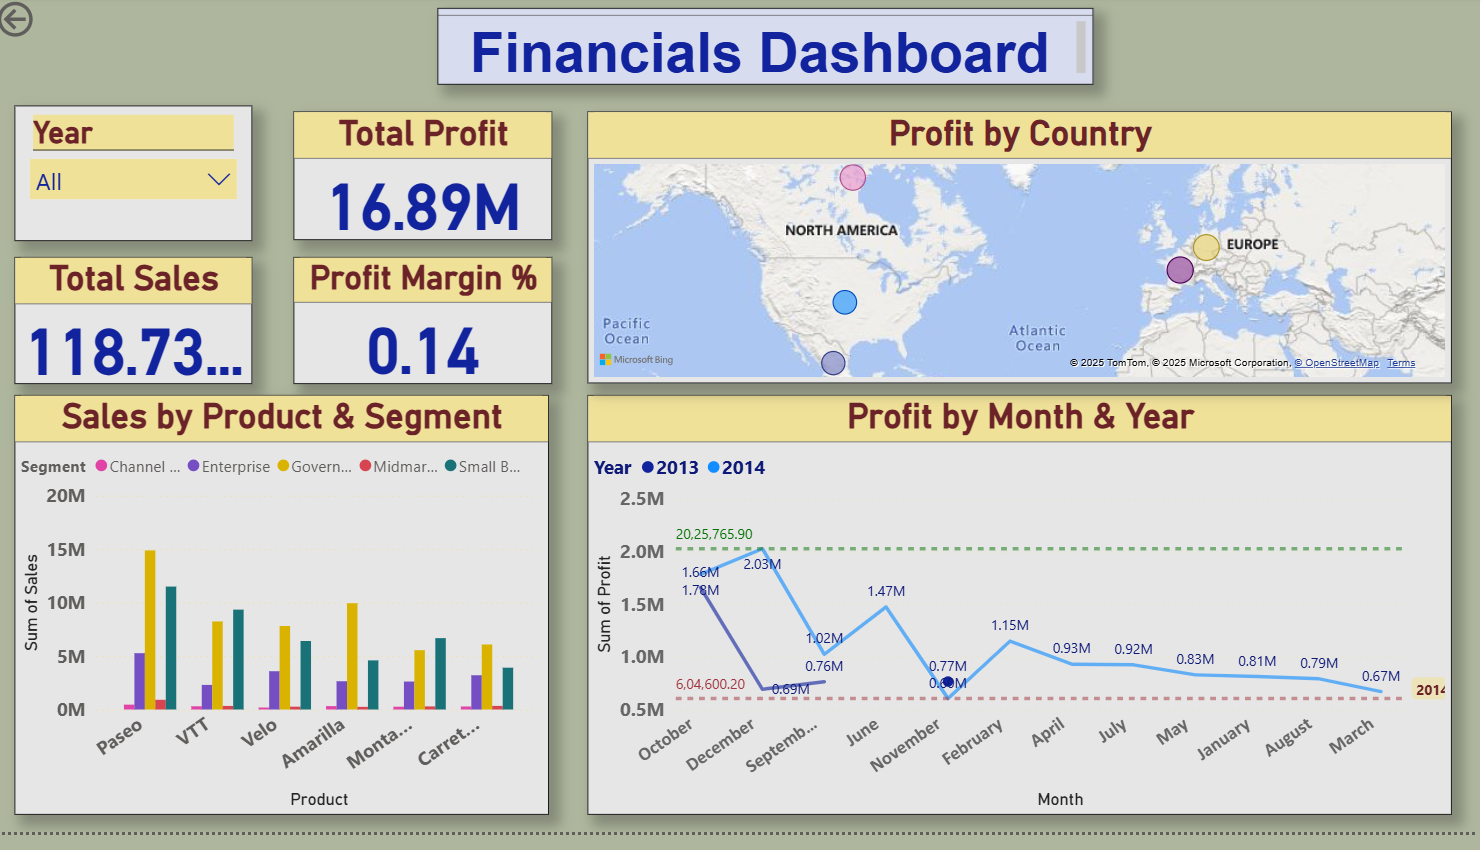

The dashboard page shown, as its layout file describes it:
{"tool":"powerbi","page":{"name":"Page 1","canvas":[1280,720],"ordinal":0},"visuals":[{"type":"slicer","fields":{"Values":["Financials.Year"]},"box":[19.4,94.3,231.1,116.2],"z":0},{"type":"card","title":"Total Profit","fields":{"Values":["Financials.Total Profit"]},"box":[259.5,94.3,223.4,116.2],"z":1000},{"type":"card","title":"Total Sales","fields":{"Values":["Financials.Total Sales"]},"box":[19.4,224.7,231.1,108.5],"z":2000},{"type":"card","title":"Profit Margin %","fields":{"Values":["Financials.Profit Margin %"]},"box":[259.9,224.5,223,109.2],"z":3000},{"type":"lineChart","title":"Profit by Month & Year","fields":{"Y":["Sum(Financials.Profit)"],"Series":["Financials.Year"],"Category":["Financials.Month"]},"box":[512.1,342.9,744.3,361.4],"z":4000},{"type":"clusteredColumnChart","title":"Sales by Product & Segment","fields":{"Category":["Financials.Product"],"Series":["Financials.Segment"],"Y":["Sum(Financials. Sales)"]},"box":[20,342.9,459.8,361.4],"z":5000},{"type":"map","title":"Profit by Country","fields":{"Category":["Financials.Country"],"Size":["Sum(Financials.Profit)"]},"box":[512.1,100,744.3,233.8],"z":6000},{"type":"textbox","box":[382.9,10.8,564.4,66.1],"z":7000},{"type":"actionButton","box":[0,0,100,40],"z":8000}]}

Visuals, with their boxes in screenshot pixels (x1, y1, x2, y2), scaled from the page's 1280x720 canvas onto the 1482x850 screenshot:
slicer - Financials.Year: rect(22, 111, 290, 249)
"Total Profit" card: rect(300, 111, 559, 249)
"Total Sales" card: rect(22, 265, 290, 393)
"Profit Margin %" card: rect(301, 265, 559, 394)
"Profit by Month & Year" lineChart: rect(593, 405, 1455, 831)
"Sales by Product & Segment" clusteredColumnChart: rect(23, 405, 556, 831)
"Profit by Country" map: rect(593, 118, 1455, 394)
textbox: rect(443, 13, 1097, 91)
actionButton: rect(0, 0, 116, 47)
